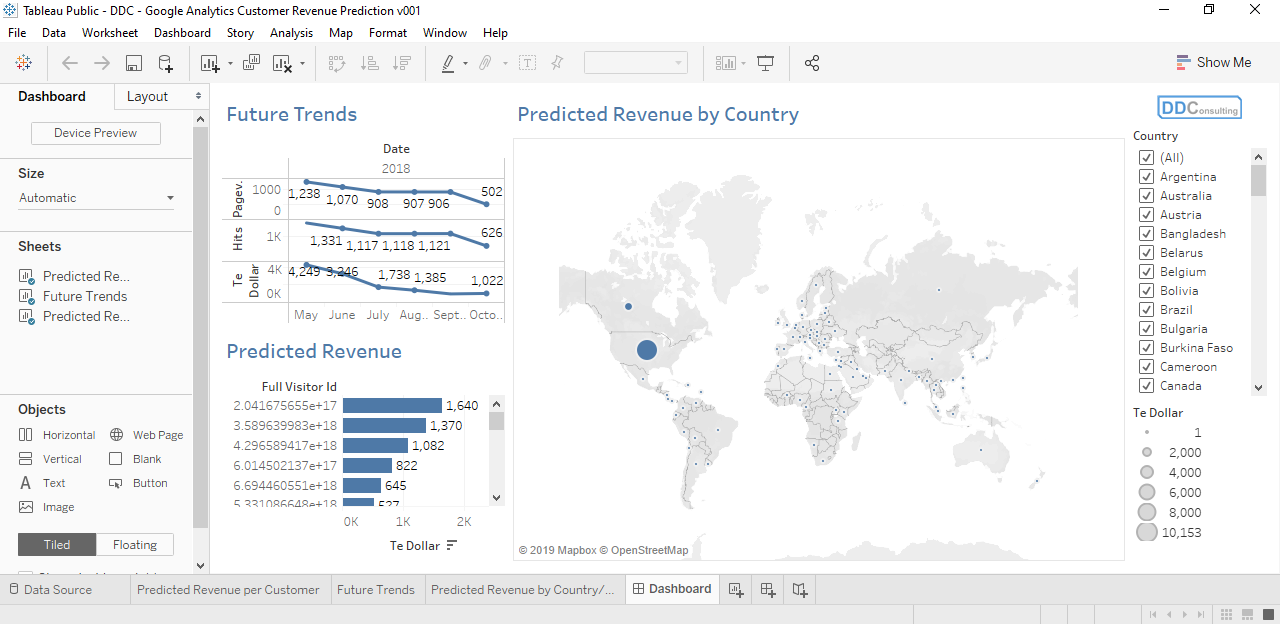

This screenshot's page, from the dashboard's own definition file:
{"tool":"tableau","page":{"name":"Dashboard","canvas":[1000,1000],"units":"permille","ordinal":0},"visuals":[{"type":"worksheet","title":"Predicted Revenue by Country/City","mark":"Automatic","box":[7.5,12.8,539,974.4]},{"type":"filter","title":"Predicted Revenue by Country/City","param":"[federated.0akiazt1ua6n4t0zzqci21vnaja4].[none:country:nk]","box":[546.5,12.8,149.7,740.4]},{"type":"worksheet","title":"Future Trends","mark":"Line","rows":["pageviews","hits","te_dollar"],"cols":["date","date"],"box":[696.2,12.8,296.3,487.2]},{"type":"worksheet","title":"Predicted Revenue per Customer","mark":"Automatic","rows":["fullVisitorId"],"cols":["te_dollar"],"box":[696.2,500,296.3,487.2]},{"type":"legend","title":"Predicted Revenue by Country/City","param":"[federated.0akiazt1ua6n4t0zzqci21vnaja4].[sum:te_dollar:qk]","box":[546.5,753.2,149.7,234]}]}

Visuals, with their boxes on the dashboard's canvas, which has no fixed pixel size, in thousandths of its width and height (x1, y1, x2, y2). These are canvas units, not pixel positions in the 1280x624 screenshot, which may show the page scaled, cropped or inside an application window:
"Predicted Revenue by Country/City" worksheet: locate(8, 13, 546, 987)
"Predicted Revenue by Country/City" filter: locate(546, 13, 696, 753)
"Future Trends" worksheet (Line marks): locate(696, 13, 992, 500)
"Predicted Revenue per Customer" worksheet: locate(696, 500, 992, 987)
"Predicted Revenue by Country/City" legend: locate(546, 753, 696, 987)
